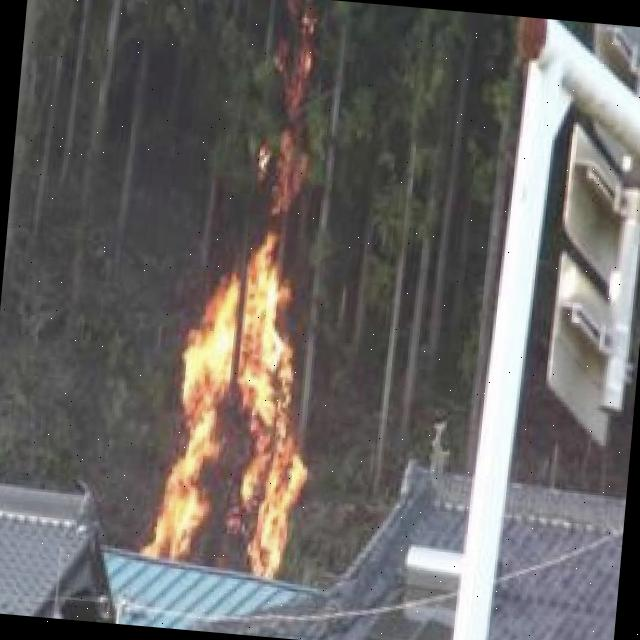fire: (146, 226, 332, 582)
